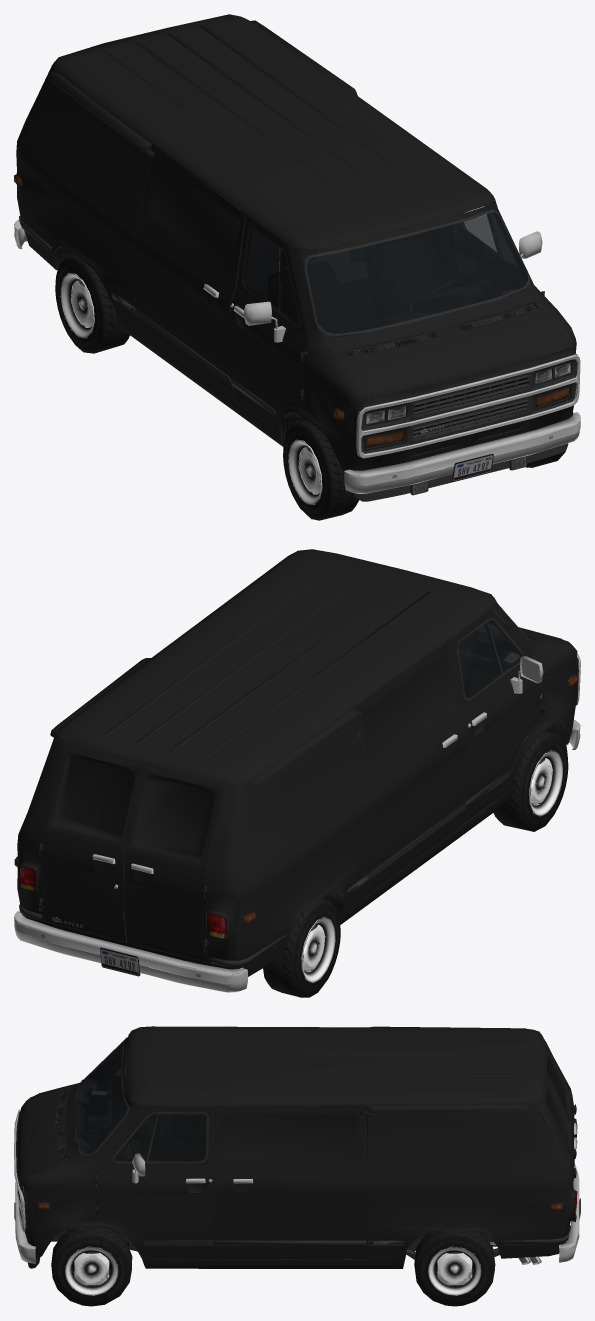
The model's file is shvan-92.glb.
3 renders of one model, top to bottom at view 1: azimuth 30°, elevation 25°; view 2: azimuth 150°, elevation 25°; view 3: azimuth 270°, elevation 25°, orthographic. The views are drawn at different scales.
Visible parts, largest first — view 1: Shvan92_Blinkers_UCB_Lights_and_Glass_0; view 2: Shvan92_Blinkers_UCB_Lights_and_Glass_0; view 3: Shvan92_Blinkers_UCB_Lights_and_Glass_0.
Part boxes in pixels (x1,y1,x2,y2): Shvan92_Blinkers_UCB_Lights_and_Glass_0: (14,14,580,520); Shvan92_Blinkers_UCB_Lights_and_Glass_0: (14,549,580,997); Shvan92_Blinkers_UCB_Lights_and_Glass_0: (14,1026,580,1306).
Size of the model in its own units: 2.16 by 1.77 by 4.5.
Materials: 8 (7 with a texture image).
